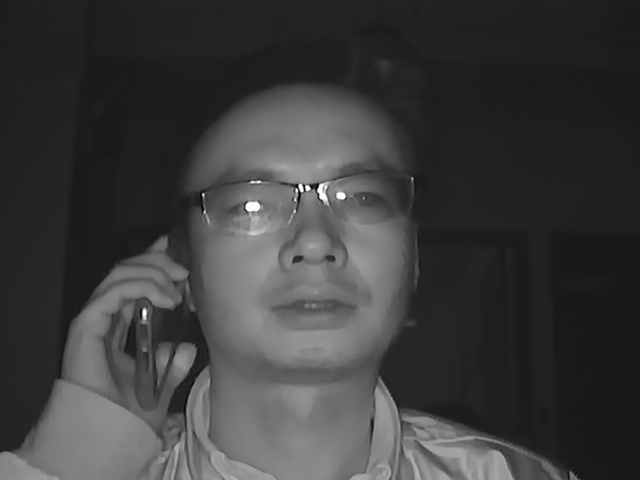hand: (68, 243, 197, 412)
